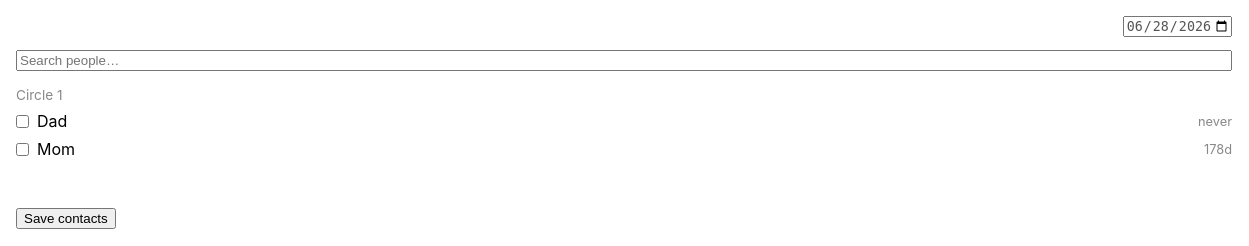
Test: DailyCheckin › changing the date re-seeds checkboxes from that date's log
expect the checkbox labelled "Mom" is not checked: met, box top-left (16, 143), bottom-right (29, 156)
Type "2026-01-01" into the date field named "check-in date" at (1177, 27), box top-left (1123, 16), bottom-right (1232, 37)
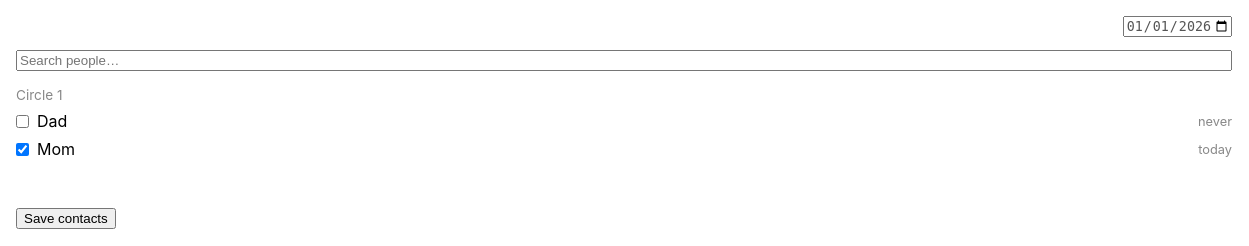
expect the checkbox labelled "Dad" is not checked: met, box top-left (16, 115), bottom-right (29, 128)
expect the checkbox labelled "Mom" is checked: met, box top-left (16, 143), bottom-right (29, 156)
